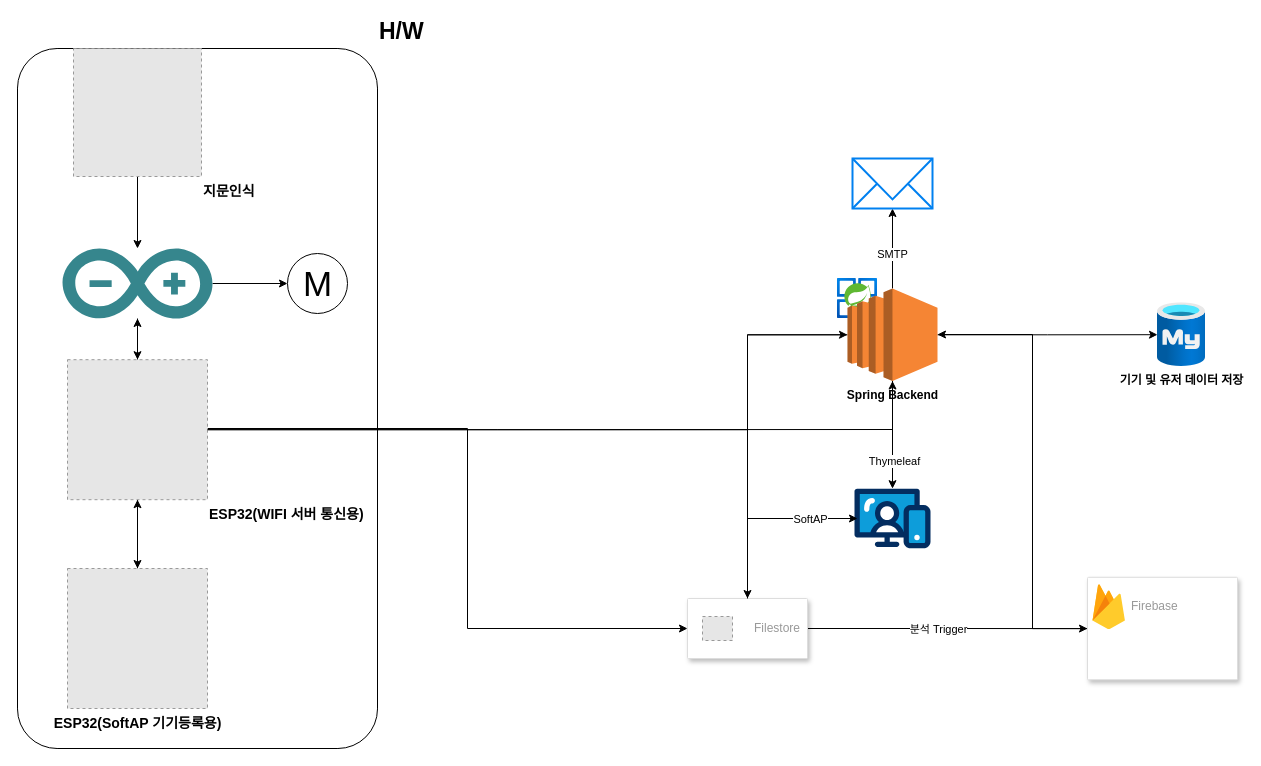
Some shapes in this 1261 by 766 pixel diagram are drawn without their labels. Grey dashed boxes stand in for pictures. Here are the shapes that lost their labels. From the top down, the centre of each, then its label:
At point 892,518: "User Endpoint".
At point 748,630: "로그 저장 및 firebase trigger".
At point 1163,629: "실시간 로그 분석".
